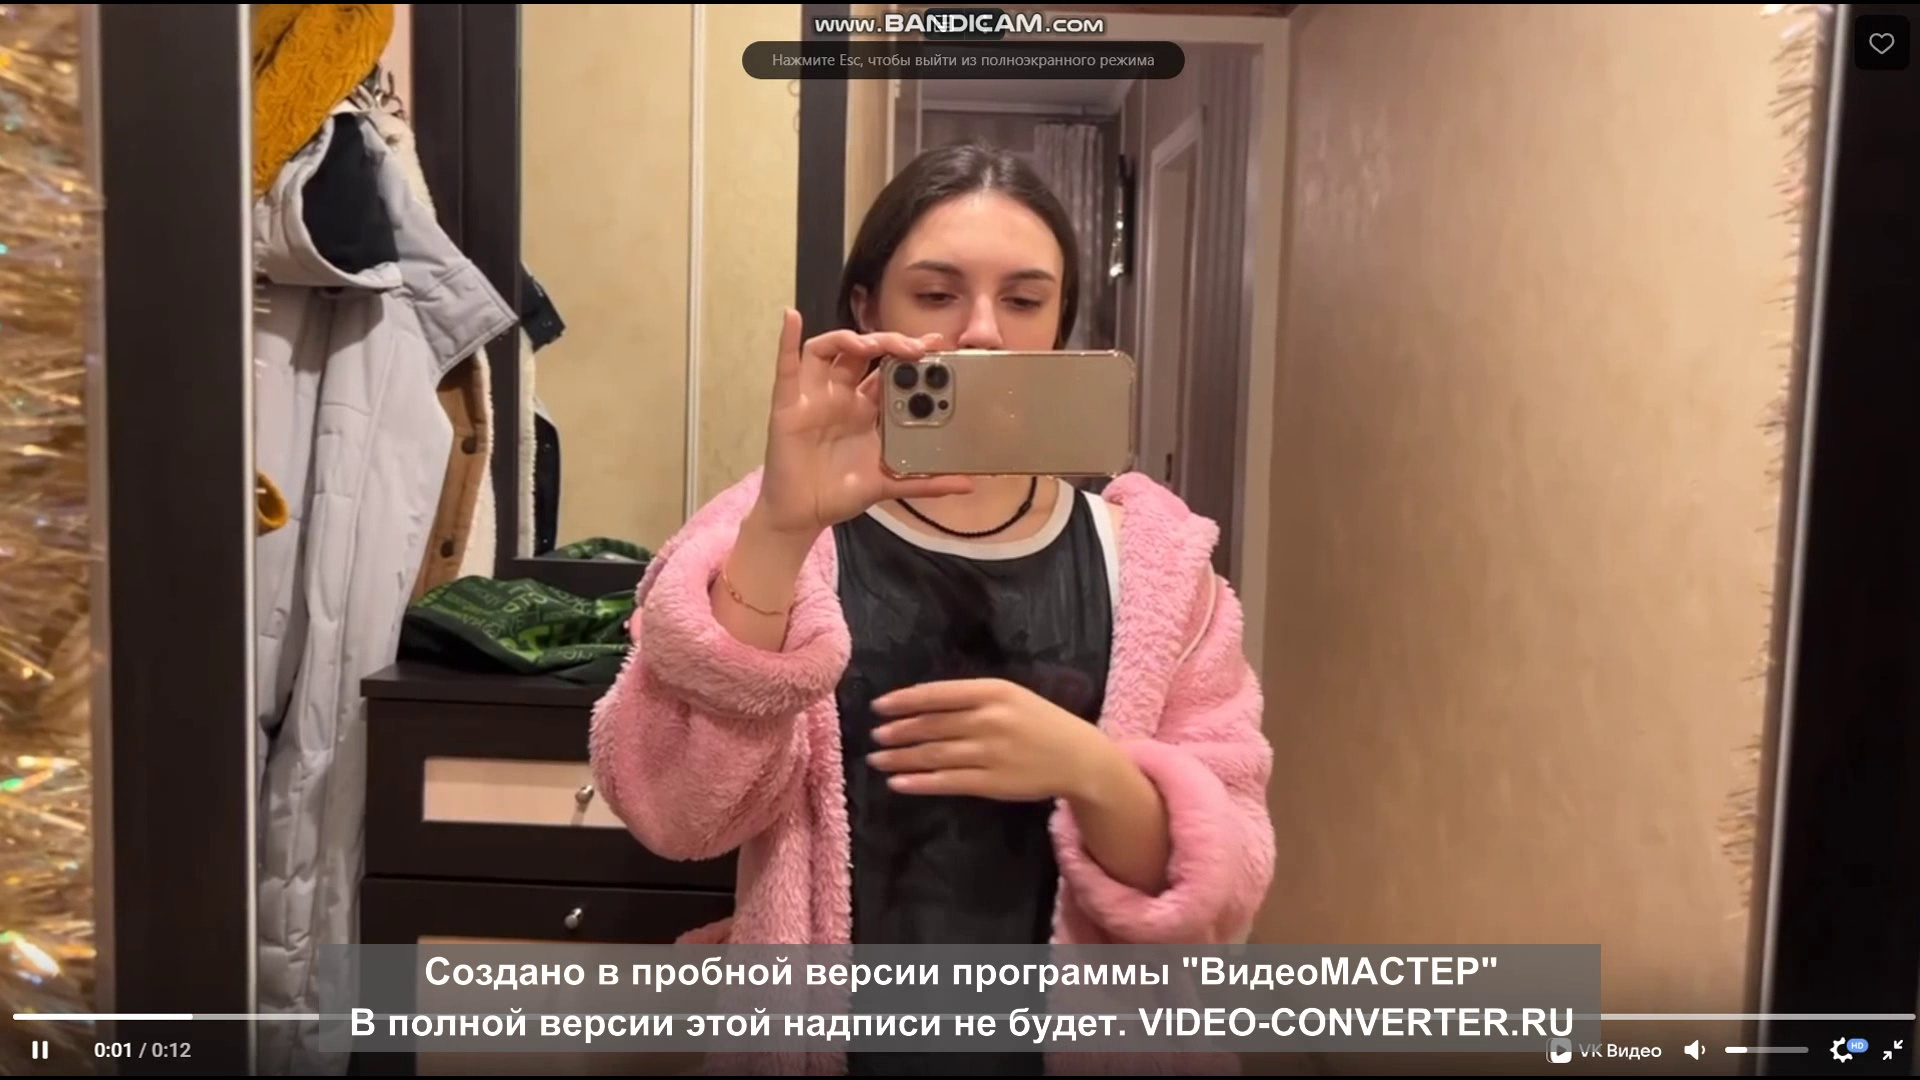Кисть: (866, 680, 1088, 799)
